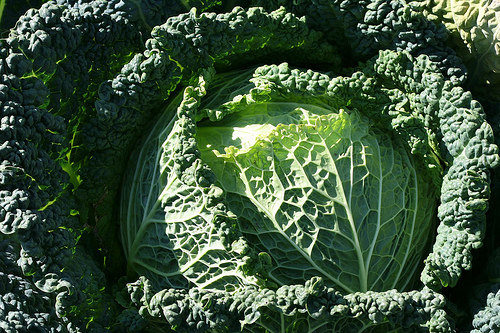cabbage: (1, 2, 499, 332)
